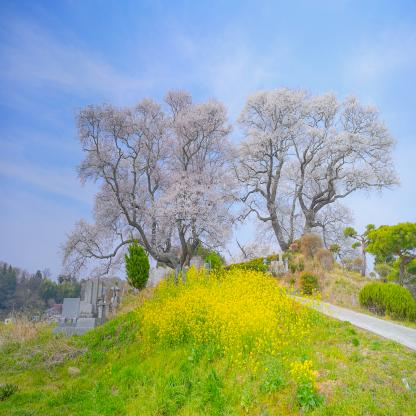EdohiganSakura: (55, 88, 244, 294), (233, 82, 402, 256)
